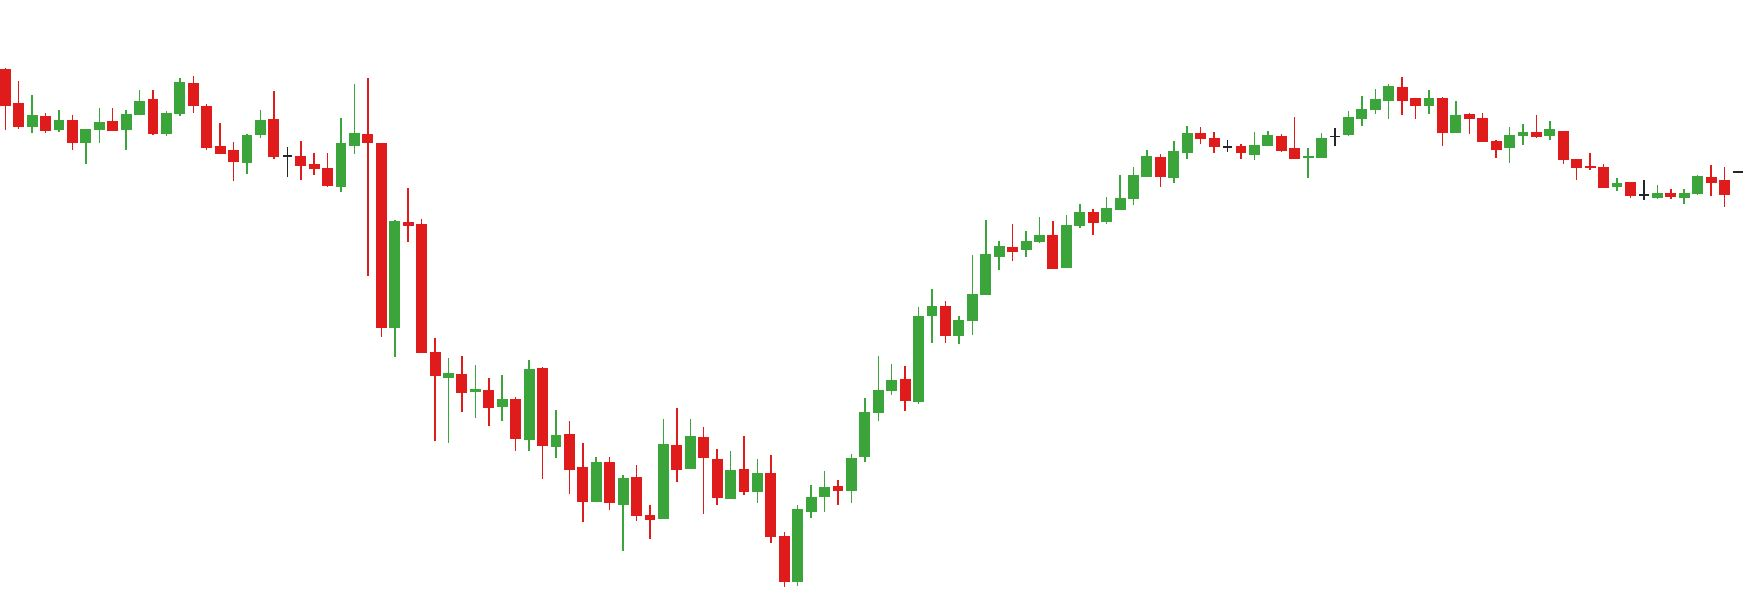buy: (615, 436, 807, 588)
sell: (266, 76, 360, 165)
